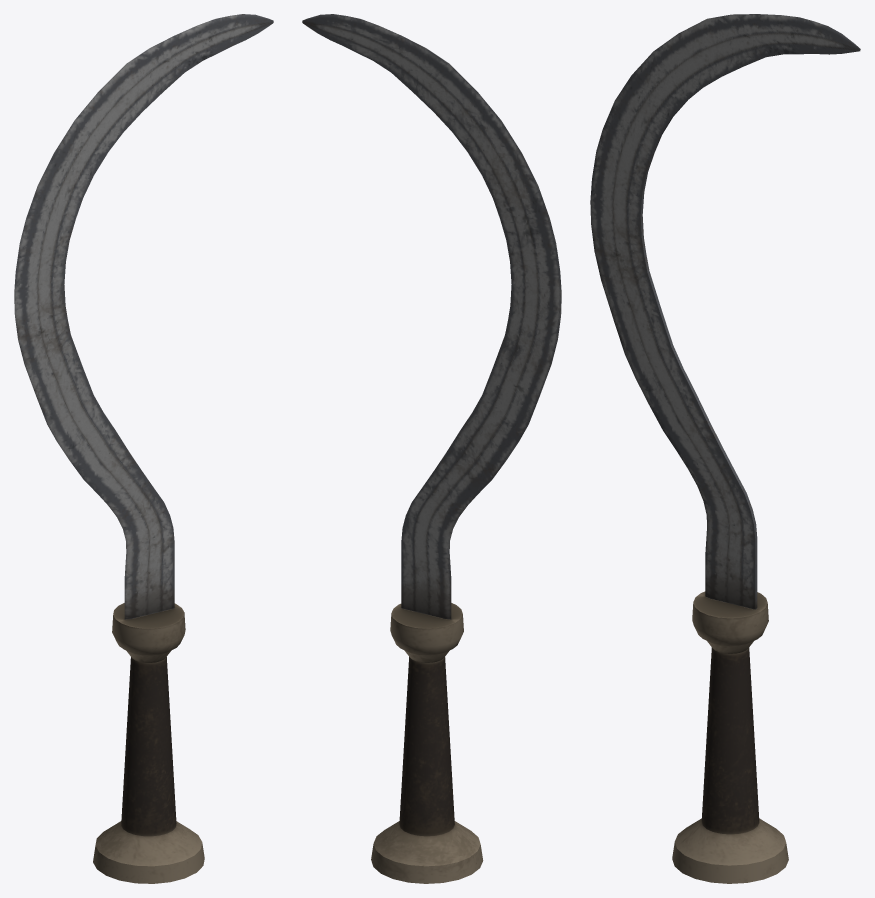
File: Curved Sword 1.fbx
The picture shows the model from 3 angles, left to right: view 1: azimuth 30°, elevation 25°; view 2: azimuth 150°, elevation 25°; view 3: azimuth 330°, elevation 25°; orthographic projection. The views are drawn at different scales.
Parts seen in each view (by area): view 1: Curved_Sword_1; view 2: Curved_Sword_1; view 3: Curved_Sword_1.
Part boxes in pixels (<box>): Curved_Sword_1: <box>14,14,273,883</box>; Curved_Sword_1: <box>302,14,561,883</box>; Curved_Sword_1: <box>590,14,860,883</box>.
Bounding box in the file's own units: 27.44 × 83.44 × 10.19.
Materials: 1 (1 with a texture image).
